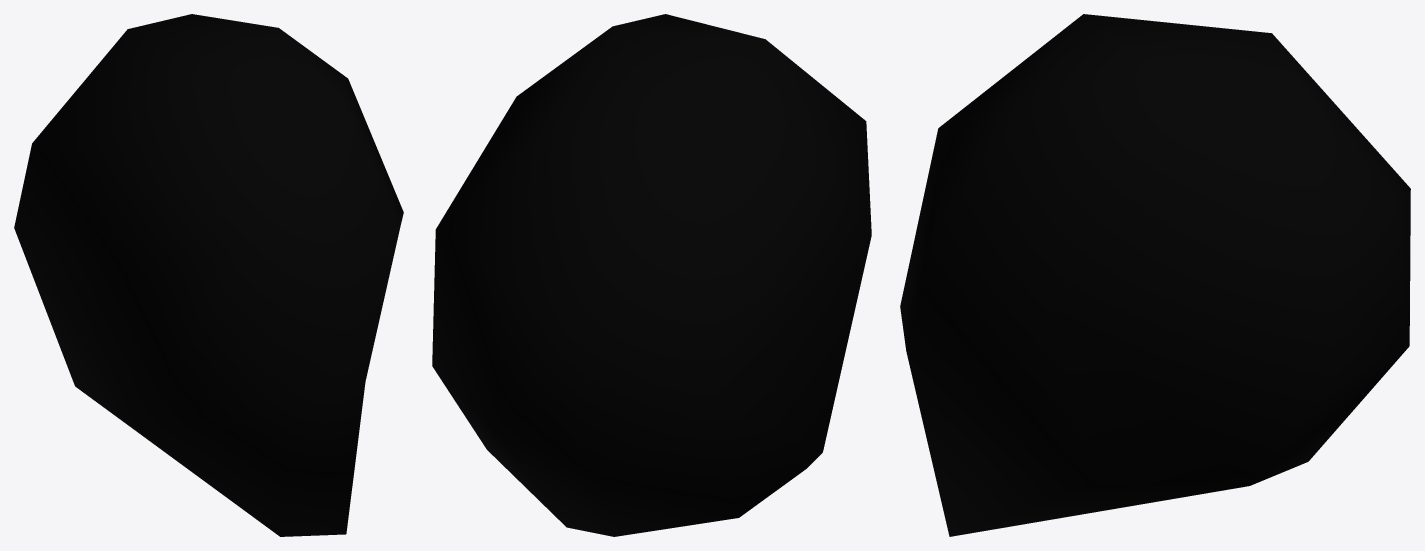
Rendered from headtop_end.obj.
3 views of the same model, side by side, from view 1: azimuth 30°, elevation 25°; view 2: azimuth 150°, elevation 25°; view 3: azimuth 270°, elevation 25° (orthographic). The views are drawn at different scales.
Parts seen in each view (by area): view 1: Alpha_Surface_Alpha_SurfaceMesh; view 2: Alpha_Surface_Alpha_SurfaceMesh; view 3: Alpha_Surface_Alpha_SurfaceMesh.
Part boxes in pixels (x1,y1,x2,y2): Alpha_Surface_Alpha_SurfaceMesh: (14, 14, 403, 536); Alpha_Surface_Alpha_SurfaceMesh: (432, 14, 871, 536); Alpha_Surface_Alpha_SurfaceMesh: (900, 14, 1410, 536).
Size of the model in its own units: 0.1604 by 0.2591 by 0.2472.
